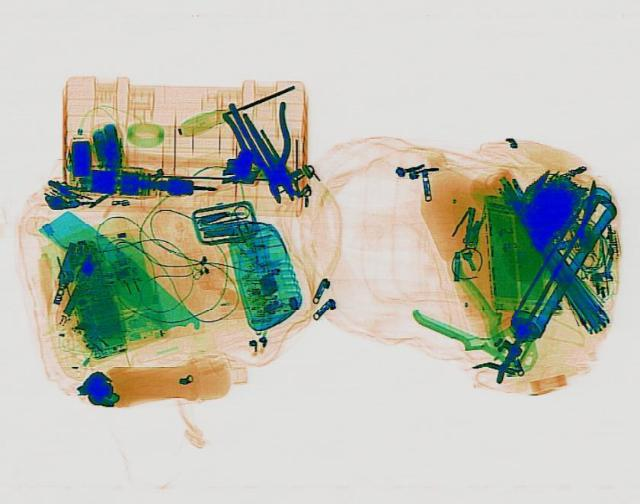Pliers: (218, 100, 318, 207)
